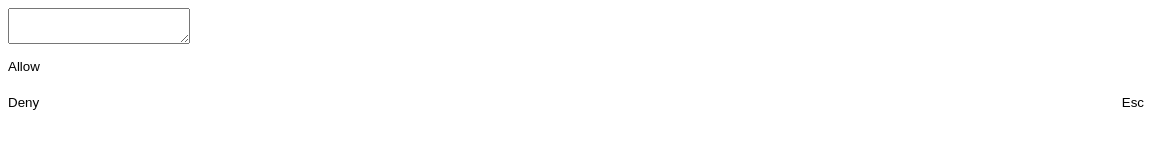
Scenario: a click only chooses, unless submitOnClick is set
Click the radio button labelled "Deny Esc". click: click(24, 102)
box: x1=8 y1=84 x2=1144 y2=120
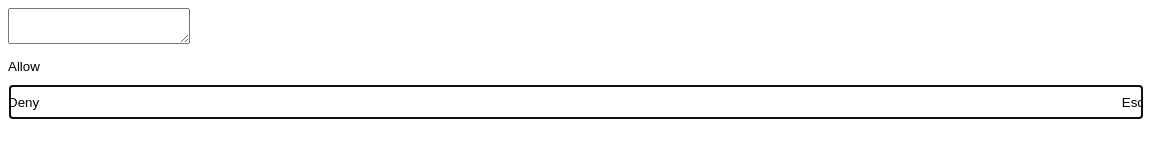
Check: the radio button labelled "Deny Esc" is checked, box x1=8 y1=84 x2=1144 y2=120
